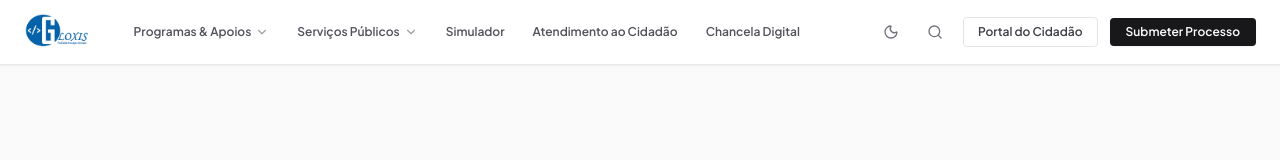
Scenario: Navbar Component › toggles search input box
Click the button with test id "search-toggle-btn" at (935, 32), box [919, 16, 951, 48]
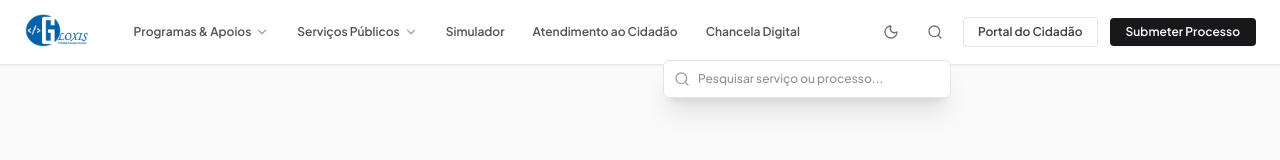
Expected: the field with test id "search-input" is shown, [698, 71, 940, 87]
